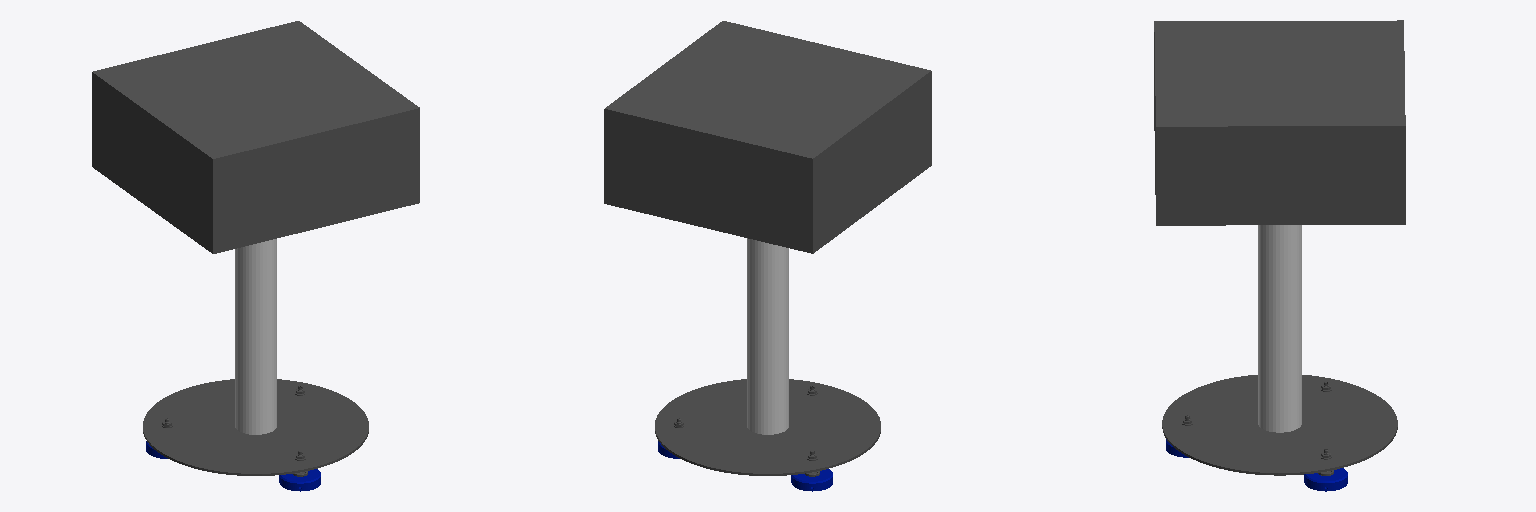
URDF robot description (sc3):
<?xml version="1.0"?>
<robot name="sc3">
  <!-- Seems unnecessary to define a joint as the model moves as a whole
    planarly -->
  <!-- Actuator representing the base of the spacecraft model -->
  <!-- <link name="base_footprint">
    <visual>
      <origin xyz="0 0 0" rpy="0 0 0"/>
      <geometry>
        <box size="0.001 0.001 0.001"/>
      </geometry>
    </visual>
  </link> -->

  <!-- Joint linking base_footprint with the base_link -->
  <!-- <joint name="base_link_anchor" type="planar">
    <origin xyz="0 0 0.25" rpy="0 0 0"/>
    <parent link="base_footprint"/>
    <child link="base_link"/>
    <dynamics friction="0.0"/>
  </joint> -->

  <!-- Represents the spacecraft simulator model -->
  <link name="base_link">
    <inertial>
      <mass value="15"/>
      <origin xyz="0 0 0"/>
      <inertia ixx="27.60" iyy="3.36" izz="28.06"
               ixy="-5.21" ixz="0.86" iyz="-4.00"/>
    </inertial>
    <visual>
      <geometry>
        <!-- <box size="0.6 0.3 0.3"/> -->
        <mesh filename="package://spacecraft_simulator_description/meshes/spacecraft-simulator-simple.dae"/>
      </geometry>
    </visual>
    <collision>
      <origin xyz="0 0 0"/>
      <geometry>
        <!-- <box size="0.46 0.46 0.76"/> -->
        <mesh filename="package://spacecraft_simulator_description/meshes/spacecraft-simulator-simple.dae"/>
      </geometry>
      <surface>
        <contact>
          <ode>
            <!-- Counts a collision at a minimum of 0.0 meters of overlap -->
            <min_depth>0.0</min_depth>
            <max_vel>0.5</max_vel>
          </ode>
        </contact>
        <friction>
          <ode>
            <mu>0.0</mu>
            <mu2>0.0</mu2>
          </ode>
        </friction>
      </surface>
    </collision>
  </link>

  <gazebo>
    <!-- ros_control plugin for parsing the transmission tags and loading the
    appropriate hardware interfaces and controller manager -->
    <!-- <plugin name="gazebo_ros_control" filename="libgazebo_ros_control.so">
      <robotNamespace>/spacecraft_simulator</robotNamespace>
    </plugin> -->

    <plugin name="object_controller" filename="libgazebo_ros_planar_move.so">
      <commandTopic>sc3/cmd_vel</commandTopic>
      <odometryTopic>odom</odometryTopic>
      <odometryFrame>odom</odometryFrame>
      <odometryRate>20.0</odometryRate>
      <robotBaseFrame>base_link</robotBaseFrame>
    </plugin>

    <plugin name="force_controller" filename="libgazebo_ros_force.so">
      <bodyName>spacecraft_simulator</bodyName>
      <topicName>sc3/ros_force</topicName>
    </plugin>
  </gazebo>


  <!-- Links actuator (what controls movement) and joint (what is being moved)
  to use ros_control with the spacecraft model -->
  <!-- <transmission name="sc_transmission">
    <type>transmission_interface/SimpleTransmission</type>
    <joint name="base_link_anchor">
      <hardwareInterface>hardware_interface/EffortJointInterface</hardwareInterface>
    </joint>
    <actuator name="base_footprint">
      <hardwareInterface>hardware_interface/EffortJointInterface</hardwareInterface>
    </actuator>
  </transmission> -->
</robot>

--- Facts derived from the render (not from the file) ---
The picture shows the robot from 3 angles, left to right: view 1: azimuth 30°, elevation 25°; view 2: azimuth 150°, elevation 25°; view 3: azimuth 270°, elevation 25°; orthographic projection.
Model sc3 with 1 links and 0 joints (none), rooted at base_link, posed every joint at zero.
Visible links, largest first — view 1: base_link; view 2: base_link; view 3: base_link.
Boxes of the visible links, box(x1,y1,x2,y2) form: base_link: box(92, 21, 419, 491); base_link: box(604, 21, 931, 491); base_link: box(1154, 20, 1405, 491).
Bounding box of the posed robot: 0.4602 × 0.4602 × 0.7582 m (x, y, z).
Meshes: 1 distinct files referenced, 1 mesh visuals loaded (1 Collada DAE).
